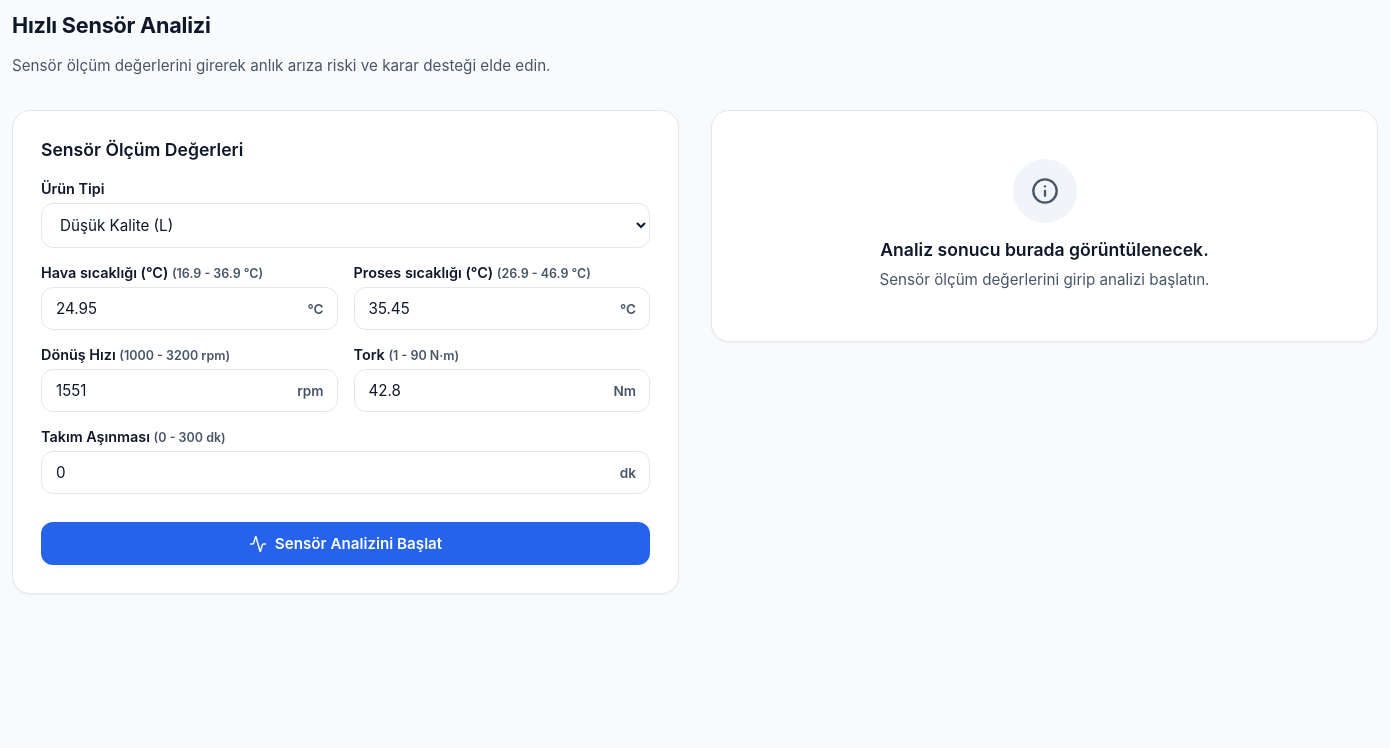
Test: HizliAnaliz › yüksek riskli analizi, güvenilir aday PWF, TWF uyarısını ve SHAP görünümünü sunar
Click the button "Sensör Analizini Başlat" at (346, 544), box [41,522,650,565]
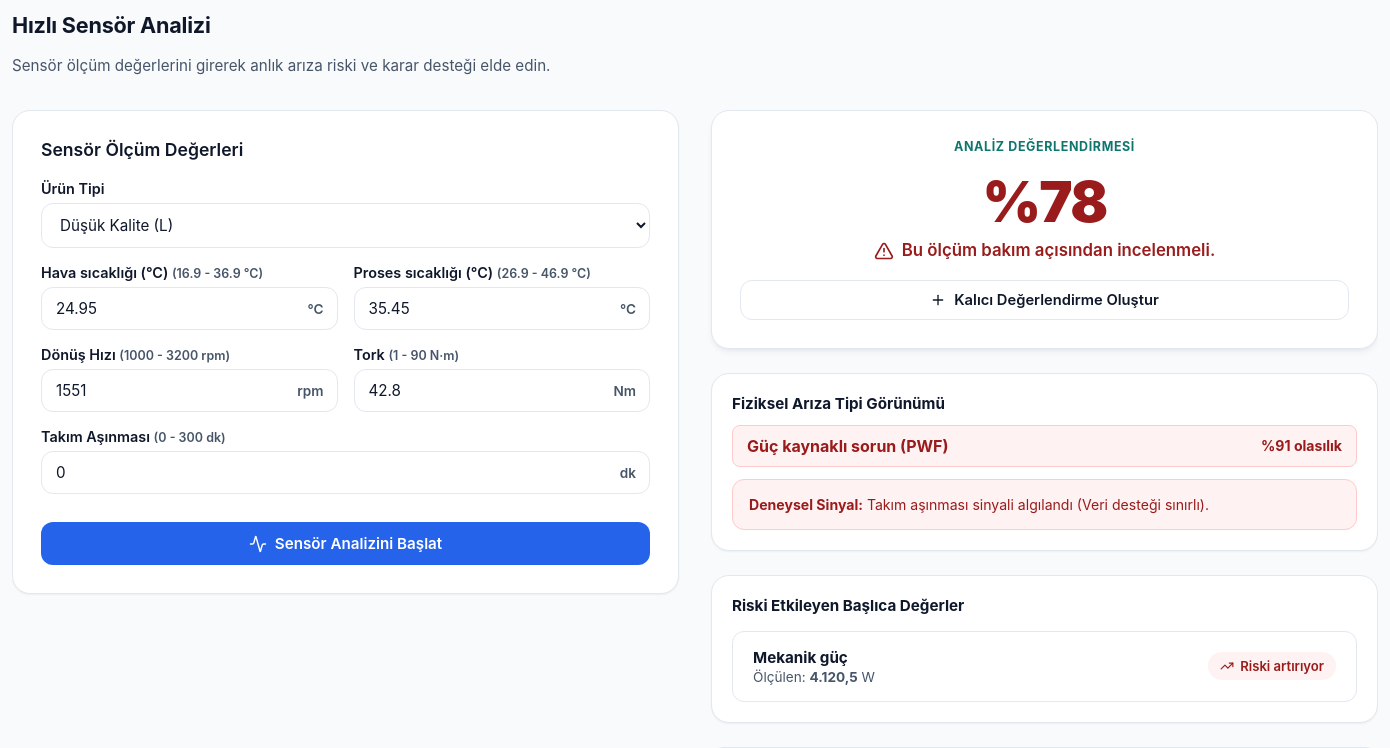
expect the text "%78" is shown: met, box [982,174,1106,230]
expect the text "Bu ölçüm bakım açısından incelenmeli." is shown: met, box [902,238,1215,264]
expect the text "Güç kaynaklı sorun (PWF)" is shown: met, box [747,436,948,456]
